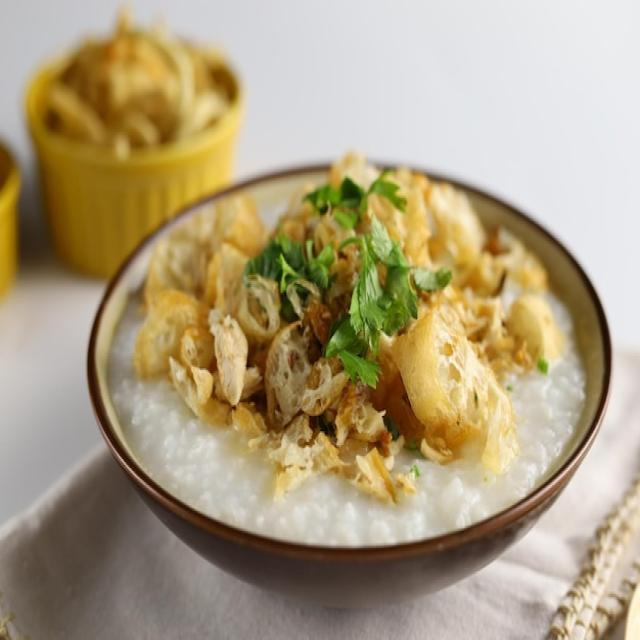bubur ayam: (110, 148, 586, 542)
mangkuk: (86, 156, 614, 614), (22, 14, 246, 280), (1, 136, 23, 300)
